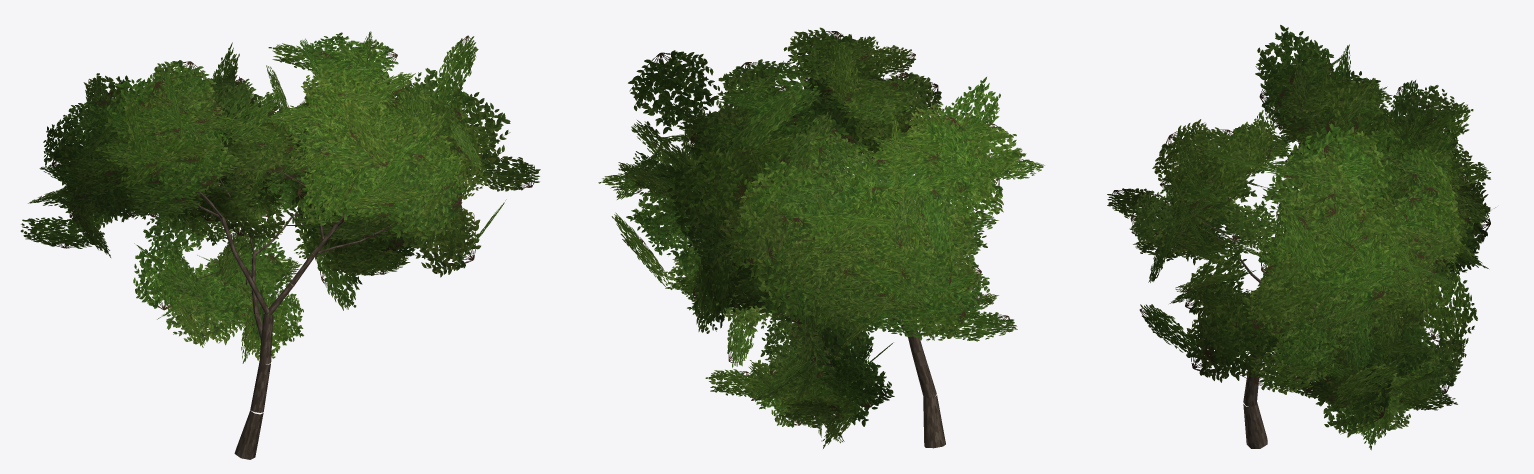
The model's file is tree_3.glb.
The picture shows the model from 3 angles, left to right: view 1: azimuth 30°, elevation 25°; view 2: azimuth 150°, elevation 25°; view 3: azimuth 270°, elevation 25°; orthographic projection.
Parts seen in each view (by area): view 1: Tree_3; view 2: Tree_3; view 3: Tree_3.
Boxes of the visible parts, <box> form: Tree_3: <box>20,31,540,459</box>; Tree_3: <box>598,27,1044,448</box>; Tree_3: <box>1107,25,1495,450</box>.
Bounding box in the file's own units: 16.39 × 12.77 × 12.61.
2 materials, 2 textured.
